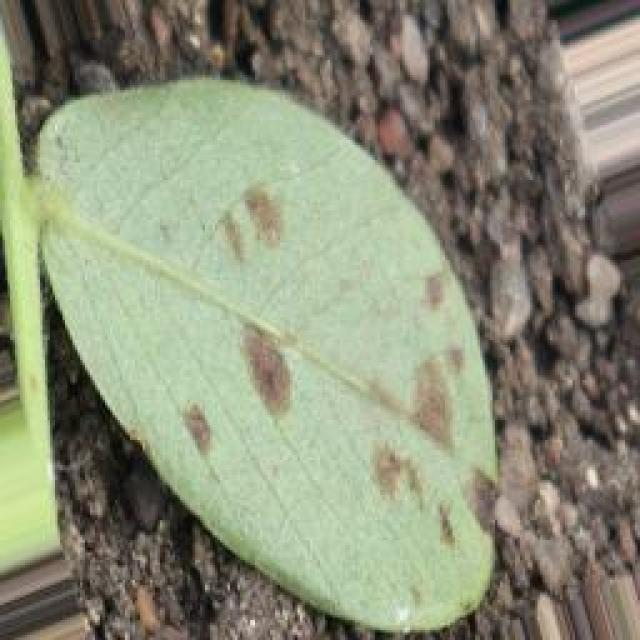Whitefly: (84, 116, 536, 614)
